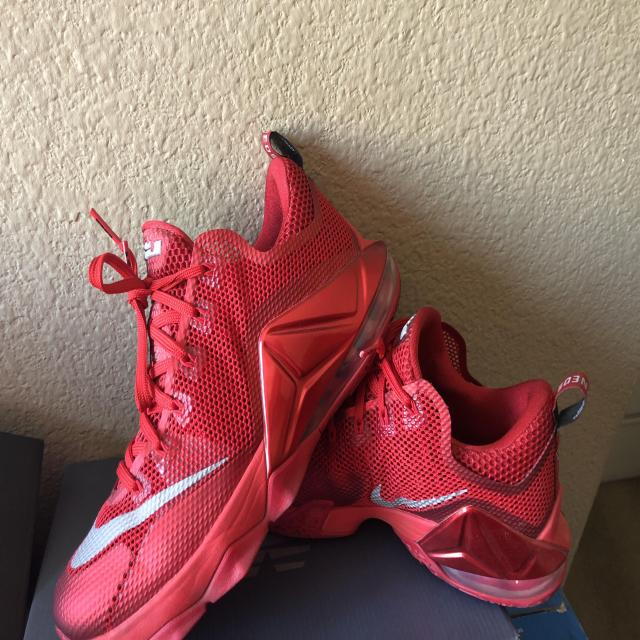shoe: (49, 132, 401, 640), (268, 300, 592, 610)
